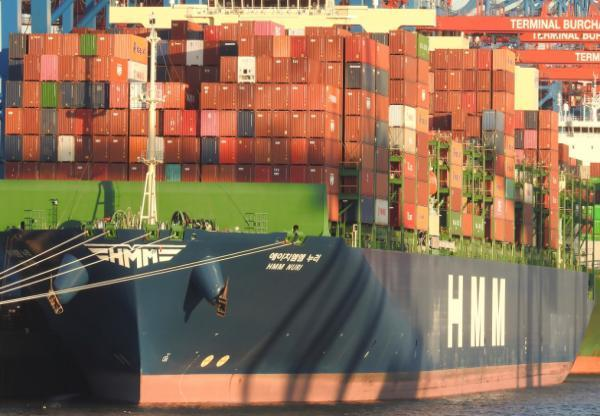Container Ship: (0, 2, 599, 407), (0, 218, 595, 407)
